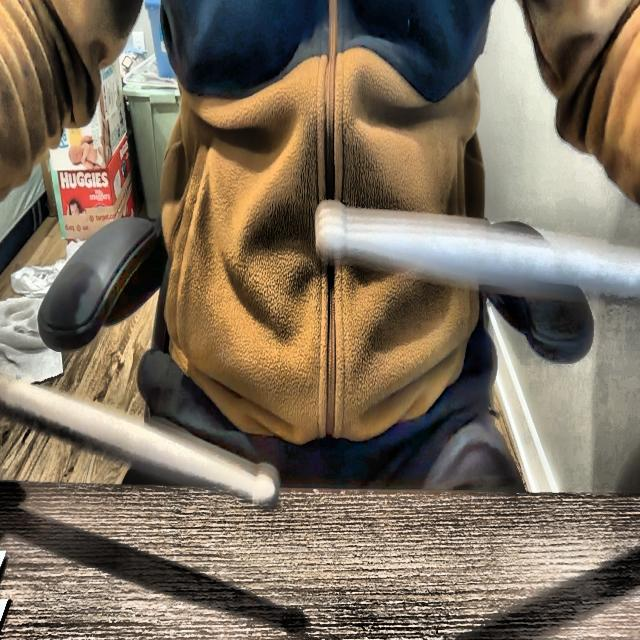Drumstick-Heads: (309, 192, 350, 270), (250, 456, 279, 516)
